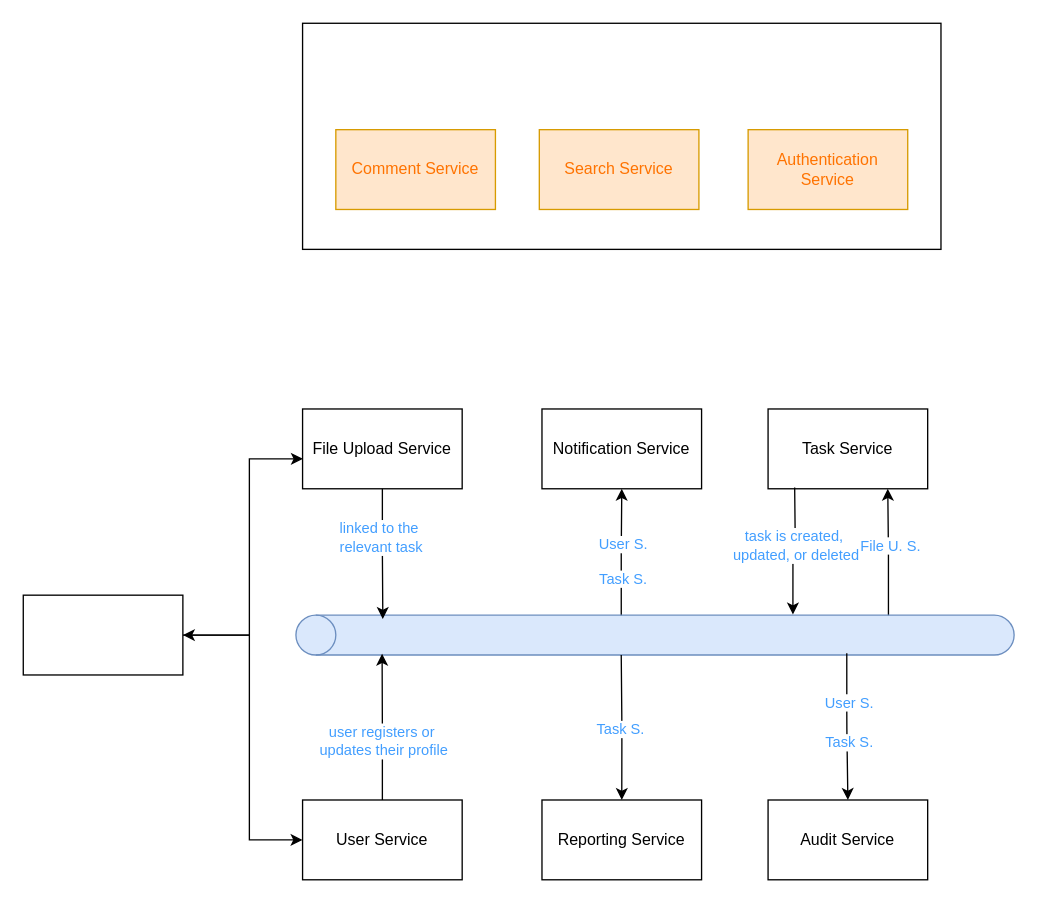
Some shapes in this 1037 by 903 pixel diagram are drawn without their labels. Here are the shapes that lost their labels. From the top down, the box of each, then its label:
(301, 22, 941, 249): Waiting for other implementation box
(22, 594, 183, 675): Router Service/ API gateway
(295, 614, 1014, 655): Message bus
